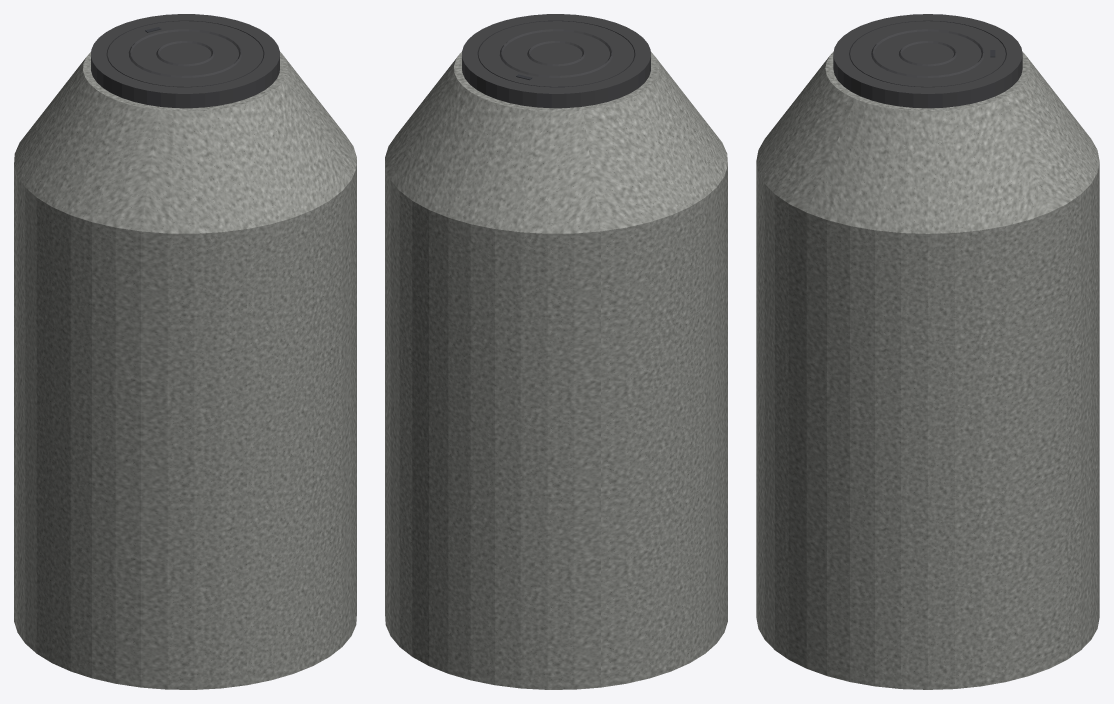
The picture shows the model from 3 angles, left to right: view 1: azimuth 30°, elevation 25°; view 2: azimuth 150°, elevation 25°; view 3: azimuth 270°, elevation 25°; orthographic projection.
Parts seen in each view (by area): view 1: coverLevelOffset=0;coverMaterial=cast_iron;coverShape=round; (×2); view 2: coverLevelOffset=0;coverMaterial=cast_iron;coverShape=round; (×2); view 3: coverLevelOffset=0;coverMaterial=cast_iron;coverShape=round; (×2).
Part boxes in pixels (x1=…): coverLevelOffset=0;coverMaterial=cast_iron;coverShape=round; (×2): x1=14, y1=14, x2=356, y2=689; coverLevelOffset=0;coverMaterial=cast_iron;coverShape=round; (×2): x1=385, y1=14, x2=727, y2=689; coverLevelOffset=0;coverMaterial=cast_iron;coverShape=round; (×2): x1=756, y1=14, x2=1099, y2=689.
Size of the model in its own units: 1.74 by 1.74 by 3.16.
Materials: 4 (1 with a texture image).
